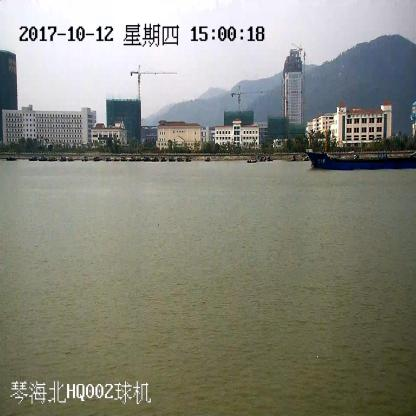Bulk Carrier: (308, 128, 416, 168)
